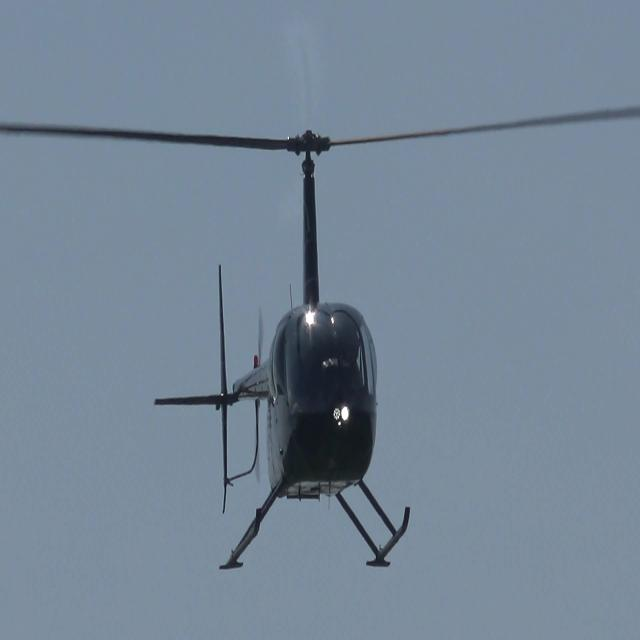CIV_HELO: (152, 126, 412, 574)
